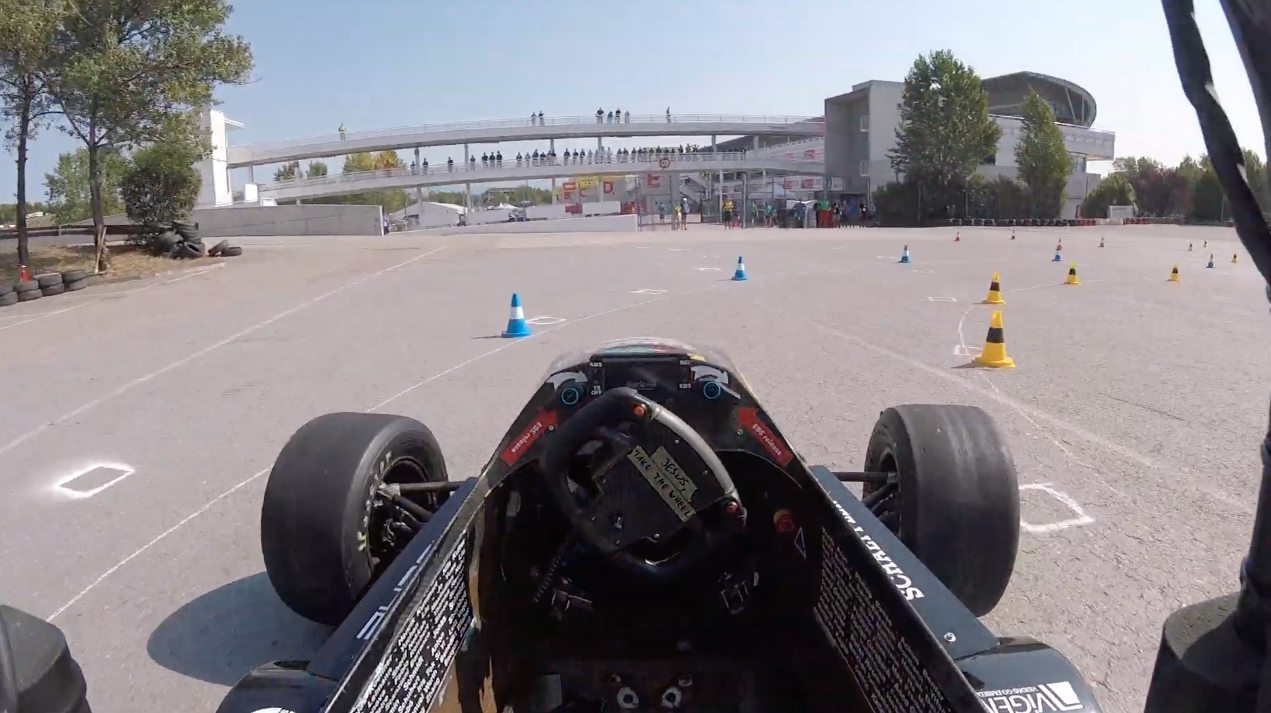lcone: (496, 292, 534, 341), (729, 254, 753, 284), (896, 243, 913, 266)
rcone: (967, 308, 1018, 370), (980, 269, 1007, 307), (1062, 260, 1082, 287)
